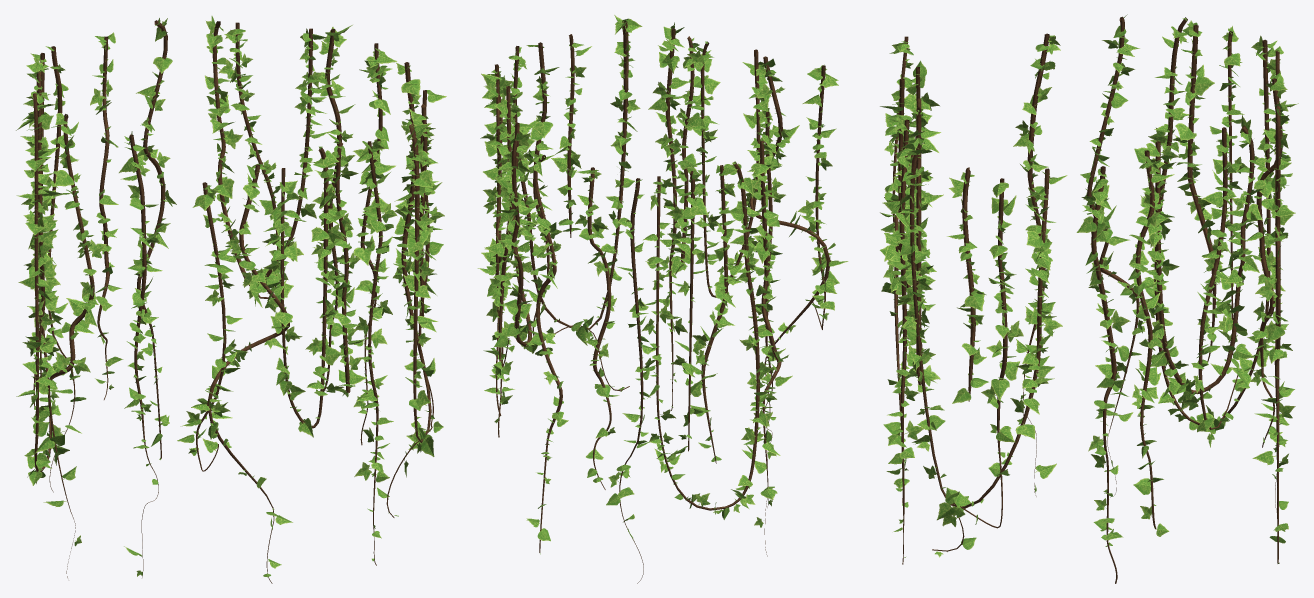
File: Hiedra_techo.fbx
3 views of the same model, side by side, from view 1: azimuth 30°, elevation 25°; view 2: azimuth 150°, elevation 25°; view 3: azimuth 270°, elevation 25° (orthographic). The views are drawn at different scales.
Visible parts, largest first — view 1: BézierCurve.006; view 2: BézierCurve.006; view 3: BézierCurve.006.
Boxes of the visible parts, bbox=[...] form: BézierCurve.006: bbox=[16, 16, 446, 583]; BézierCurve.006: bbox=[477, 15, 848, 583]; BézierCurve.006: bbox=[880, 14, 1298, 583].
Size of the model in its own units: 340 by 429 by 333.
